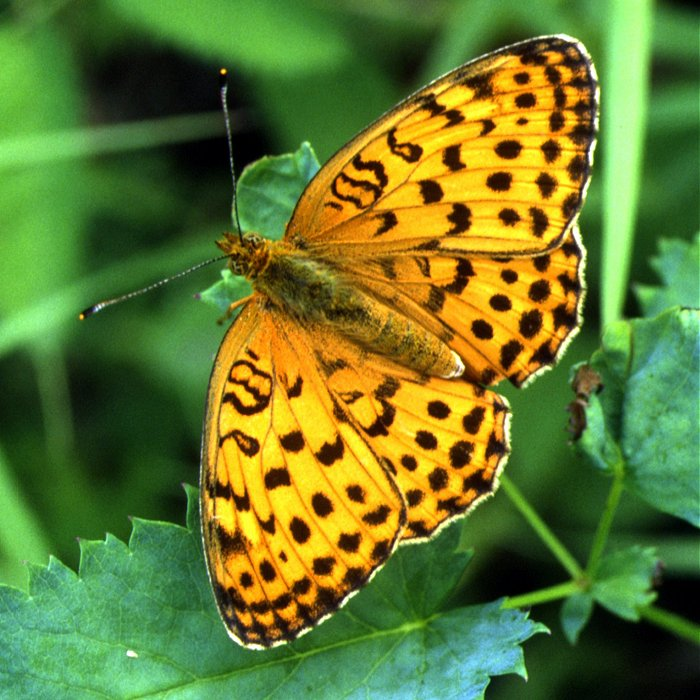Argyreus hyperbius: (68, 27, 604, 648)
butterfly: (70, 29, 606, 650)
